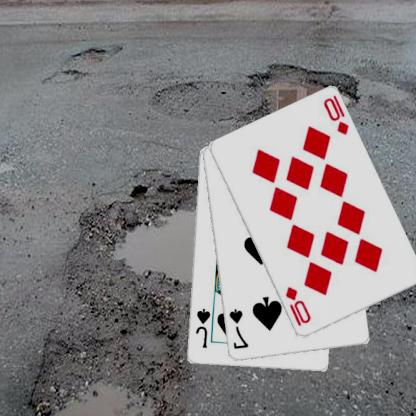10D: (322, 92, 352, 137), (284, 284, 314, 328)
7S: (228, 307, 251, 351)
JS: (194, 306, 213, 349)
